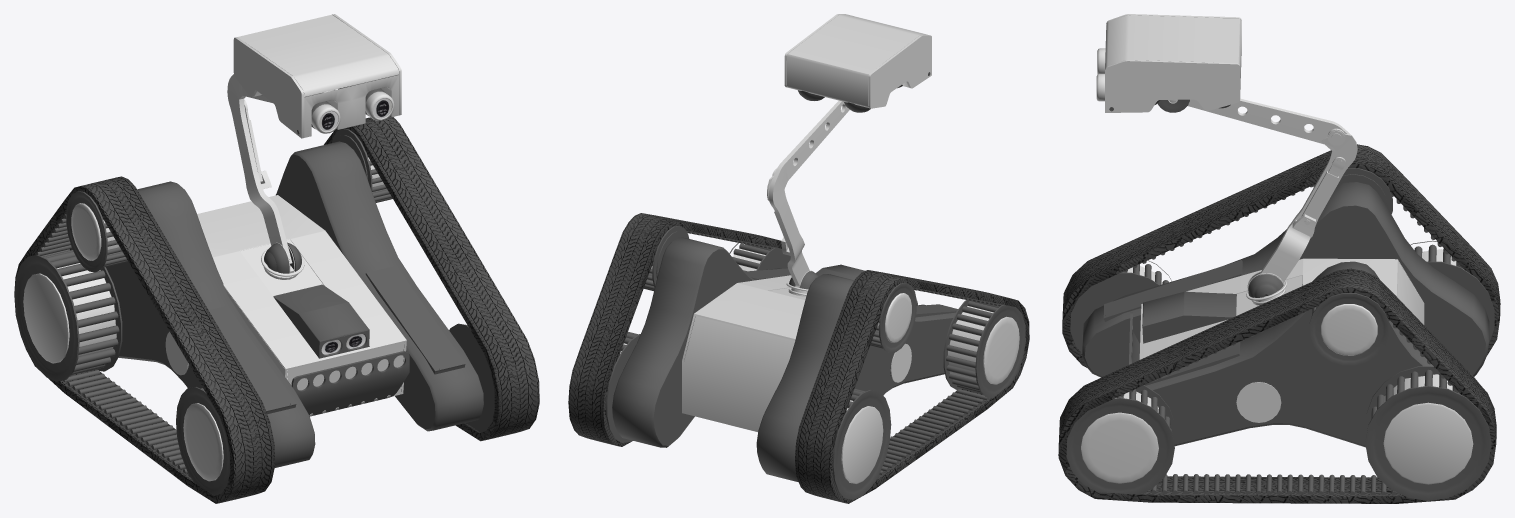
The model's file is robot.gltf.
3 renders of one model, left to right at view 1: azimuth 30°, elevation 25°; view 2: azimuth 150°, elevation 25°; view 3: azimuth 270°, elevation 25°, orthographic. The views are drawn at different scales.
Parts seen in each view (by area): view 1: 对象002; view 2: 对象002; view 3: 对象002.
Part boxes in pixels (x1,y1,x2,y2): 对象002: [14, 14, 539, 503]; 对象002: [568, 14, 1029, 503]; 对象002: [1058, 14, 1500, 503].
Bounding box in the file's own units: 3.35 × 4.09 × 4.23.
Materials: 4 (2 with a texture image).
